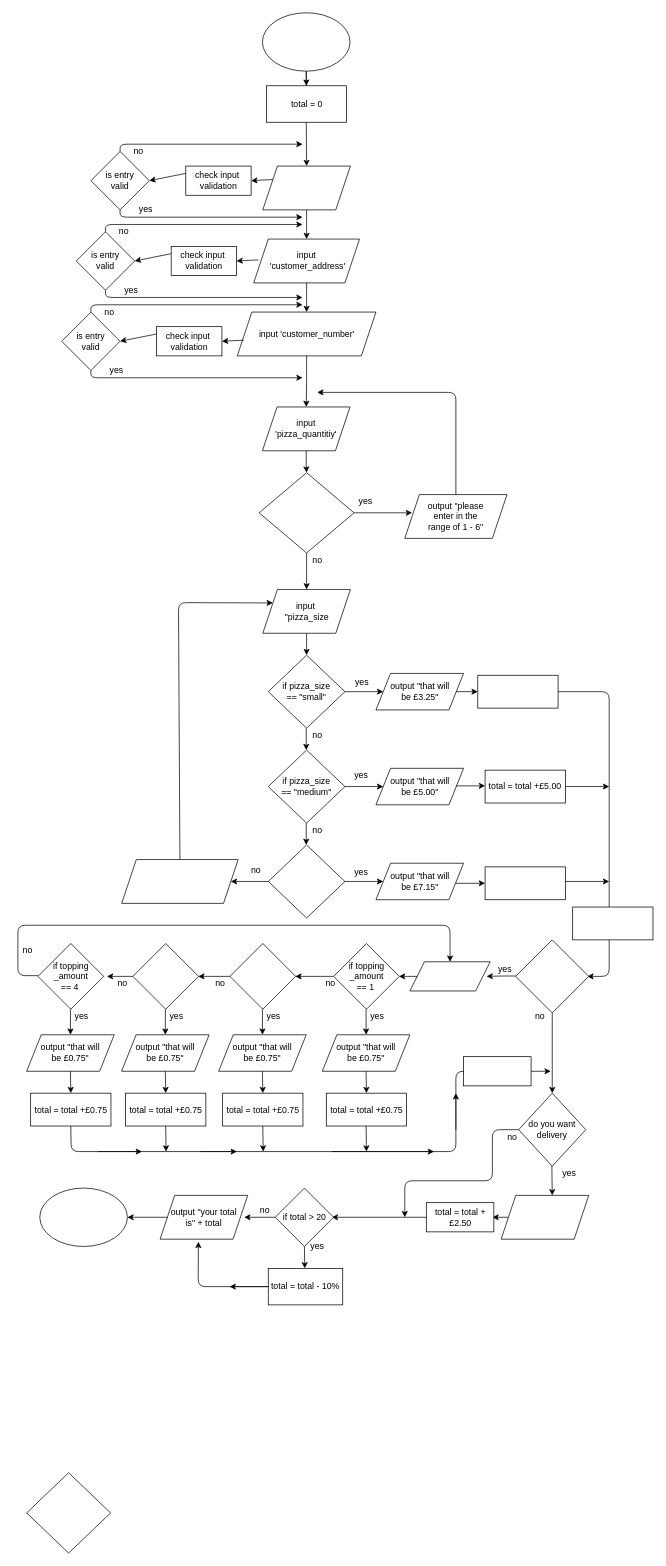
This 666x1566 diagram has some shape labels left out. Here are the shapes that lost their labels. From the top down, the box of each, then its label:
(262, 12, 350, 71): start
(262, 165, 350, 210): input 'customer_name'
(258, 472, 354, 553): if pizza_quantity <1 or >6
(477, 675, 558, 708): total = total +£3.25
(121, 859, 238, 903): output "please choose a size from small ,medium or large"
(268, 844, 345, 918): if pizza_size == "large"
(484, 866, 565, 900): total = total +£7.15
(572, 906, 653, 940): total = total x pizza amount
(132, 943, 199, 1009): if topping _amount == 3
(229, 943, 296, 1009): if topping _amount == 2
(409, 961, 490, 991): input topping amount
(515, 939, 589, 1013): do you want toppings
(463, 1056, 531, 1086): total = total + topping_amoint
(39, 1187, 127, 1246): END
(500, 1195, 589, 1239): output "it will cost an extra £2.50"
(26, 1472, 111, 1553): "Do you want delivery?"
